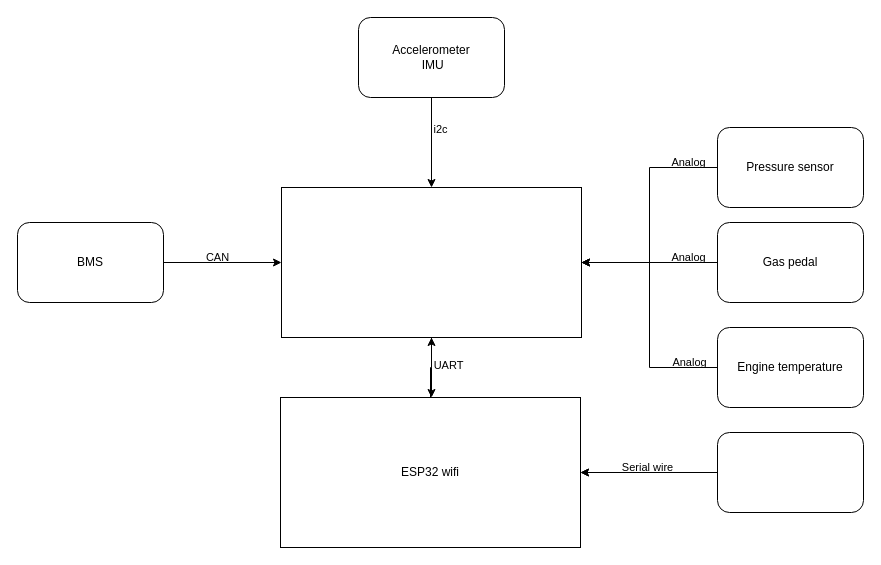
Image size: 881x565. Some labels were removed from this diagram. Here are the shapes that lost their labels. From the top down, the centre of each, then its label:
the point at 431,262: STM DISCO
the point at 790,472: Progammer
